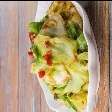juanxincairoupian: (27, 0, 92, 111)
